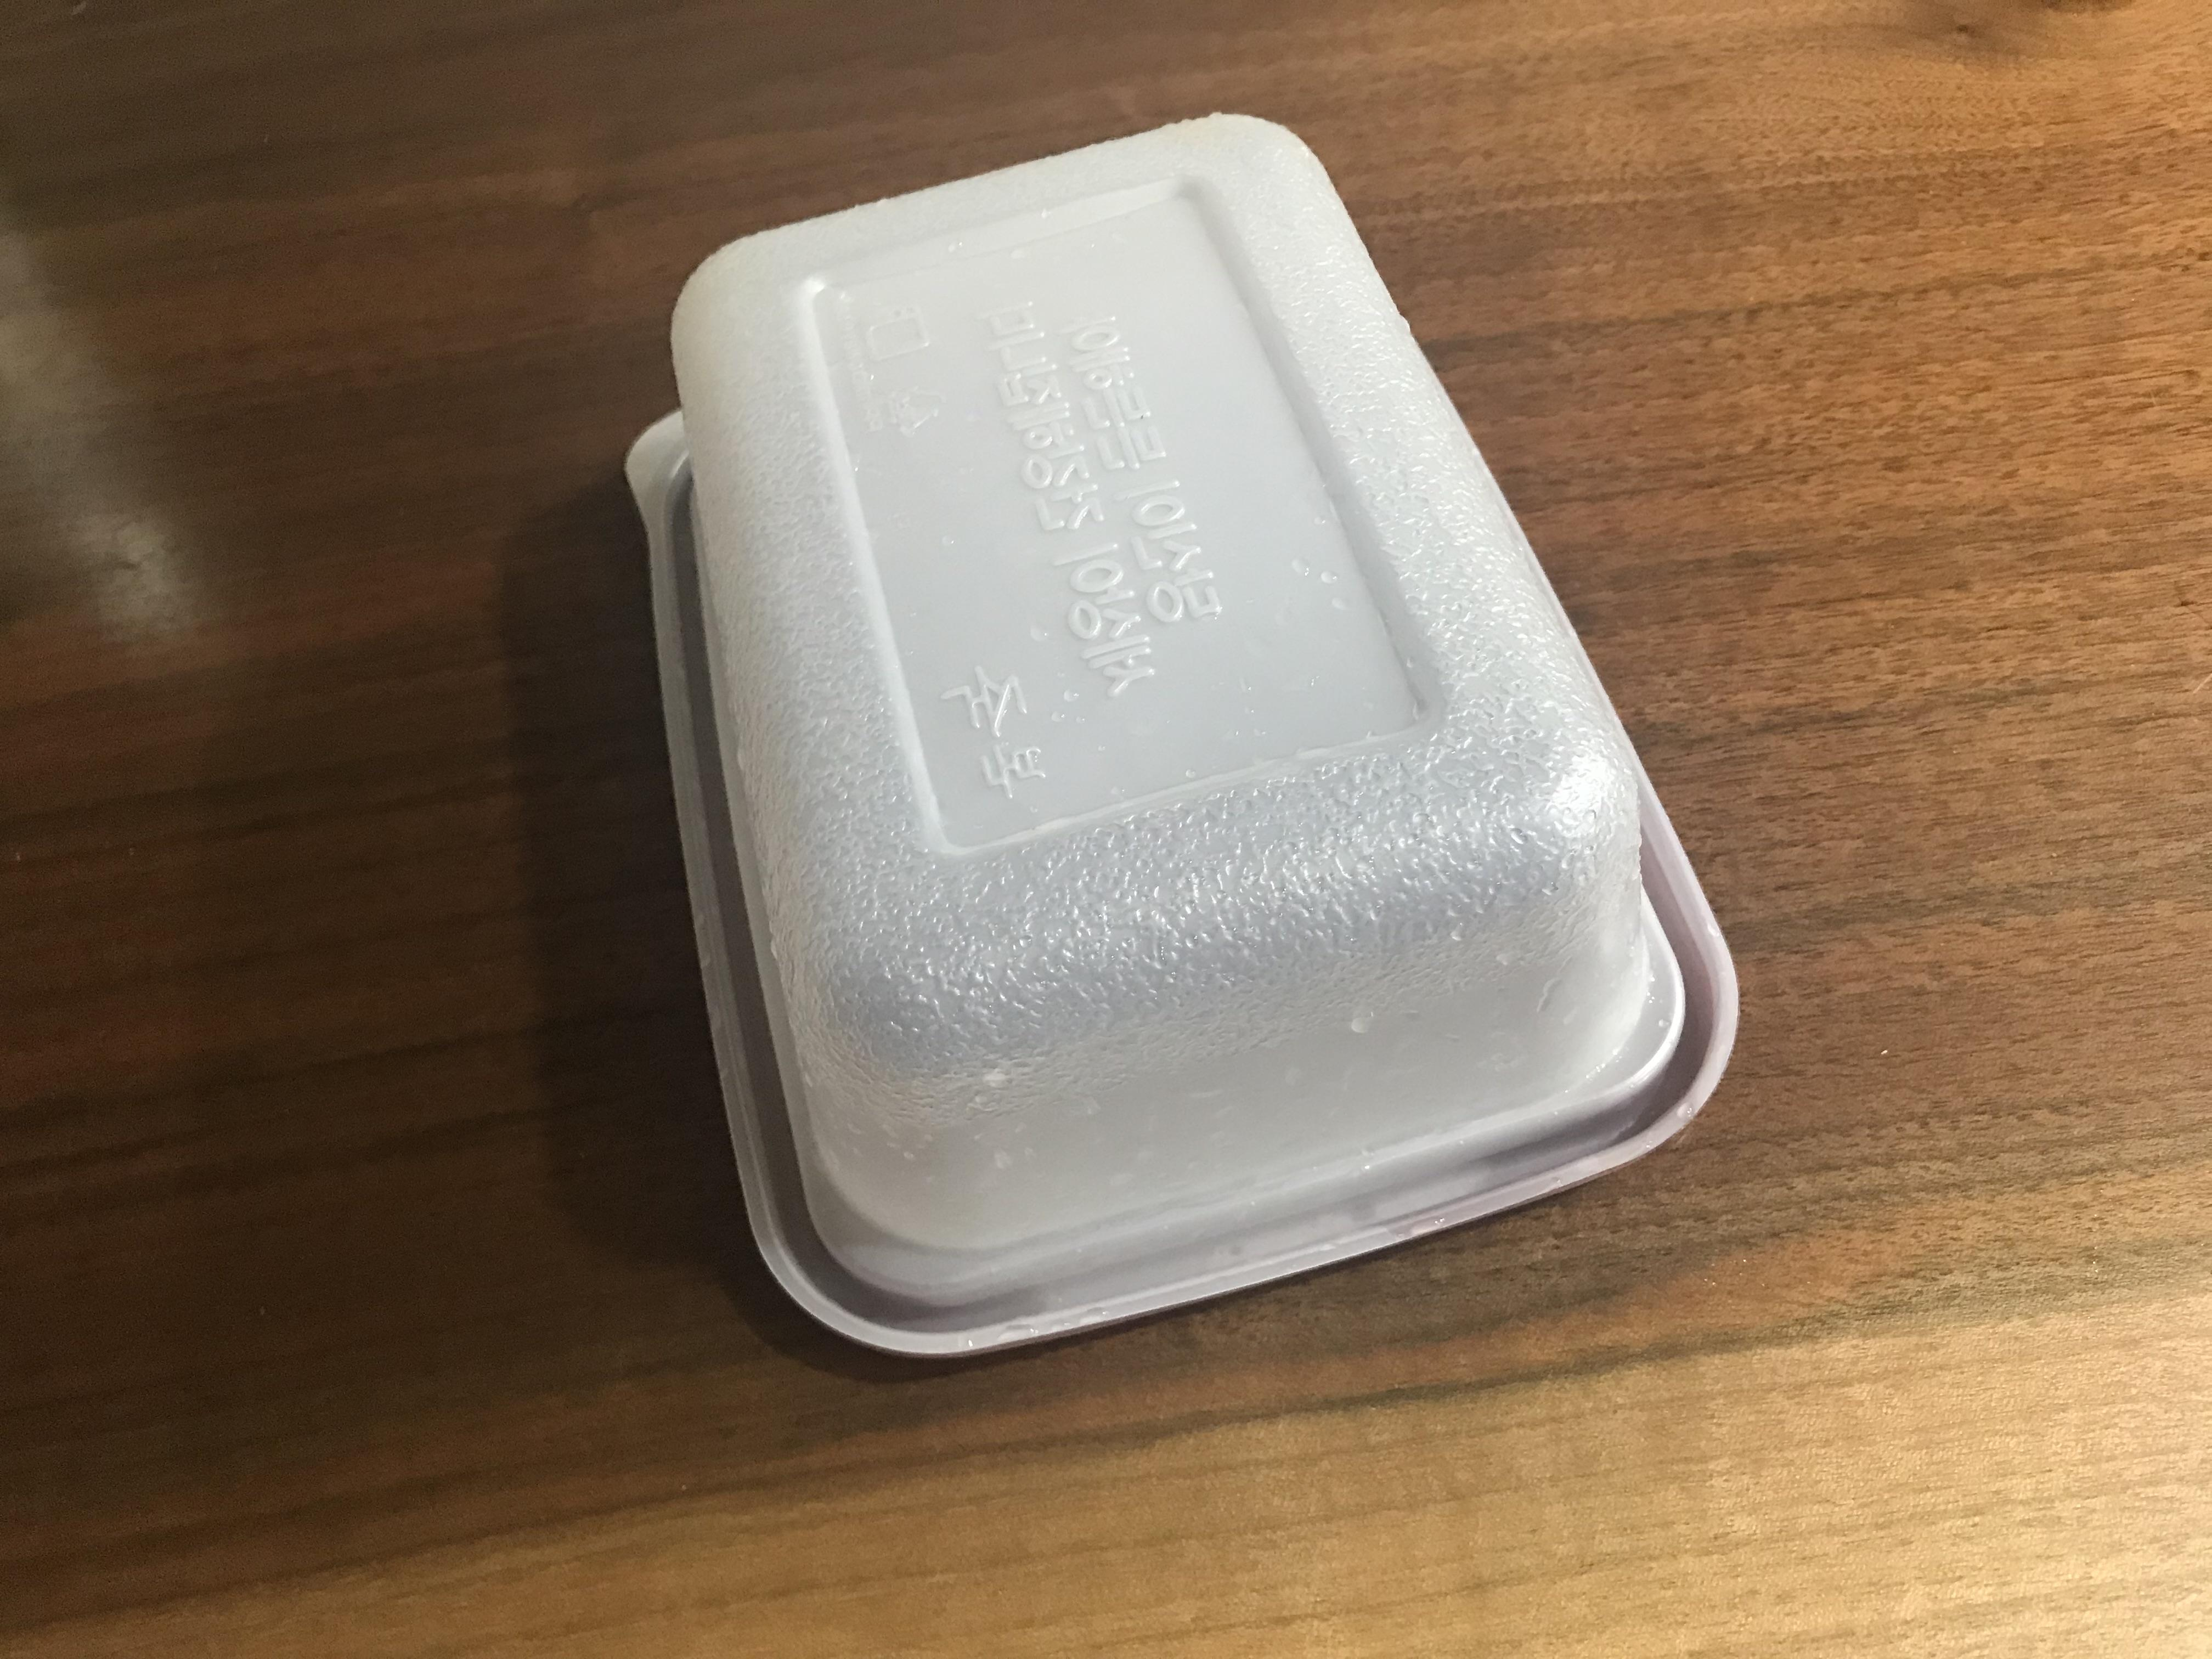bottle: (549, 92, 1810, 1338)
